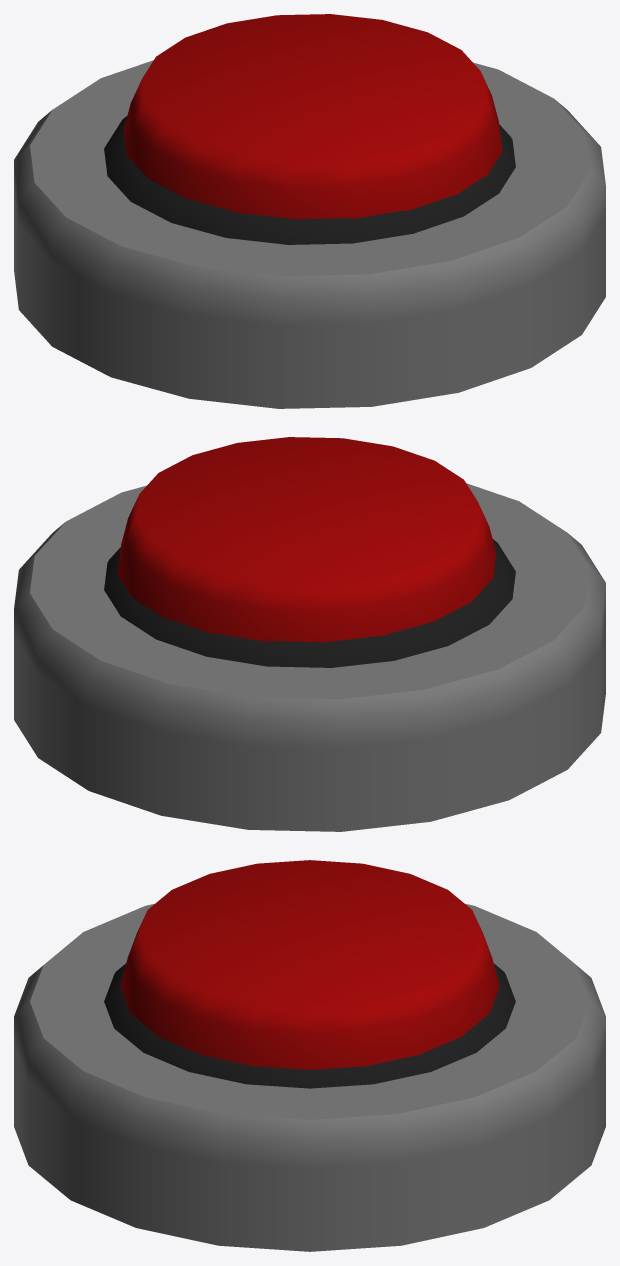
The model's file is buttonselect.fbx.
3 renders of one model, top to bottom at view 1: azimuth 30°, elevation 25°; view 2: azimuth 150°, elevation 25°; view 3: azimuth 270°, elevation 25°, orthographic.
Visible parts, largest first — view 1: pCylinder1, pCylinder3, pTorus1; view 2: pCylinder1, pCylinder3, pTorus1; view 3: pCylinder1, pCylinder3, pTorus1.
Boxes of the visible parts, x1=… form: pCylinder1: x1=14, y1=60, x2=605, y2=408; pCylinder3: x1=123, y1=14, x2=502, y2=219; pTorus1: x1=104, y1=116, x2=515, y2=244; pCylinder1: x1=14, y1=483, x2=605, y2=831; pCylinder3: x1=117, y1=437, x2=496, y2=642; pTorus1: x1=104, y1=539, x2=515, y2=667; pCylinder1: x1=14, y1=904, x2=605, y2=1251; pCylinder3: x1=120, y1=860, x2=499, y2=1069; pTorus1: x1=104, y1=963, x2=515, y2=1088.
Bounding box in the file's own units: 4.99 × 1.82 × 4.99.
